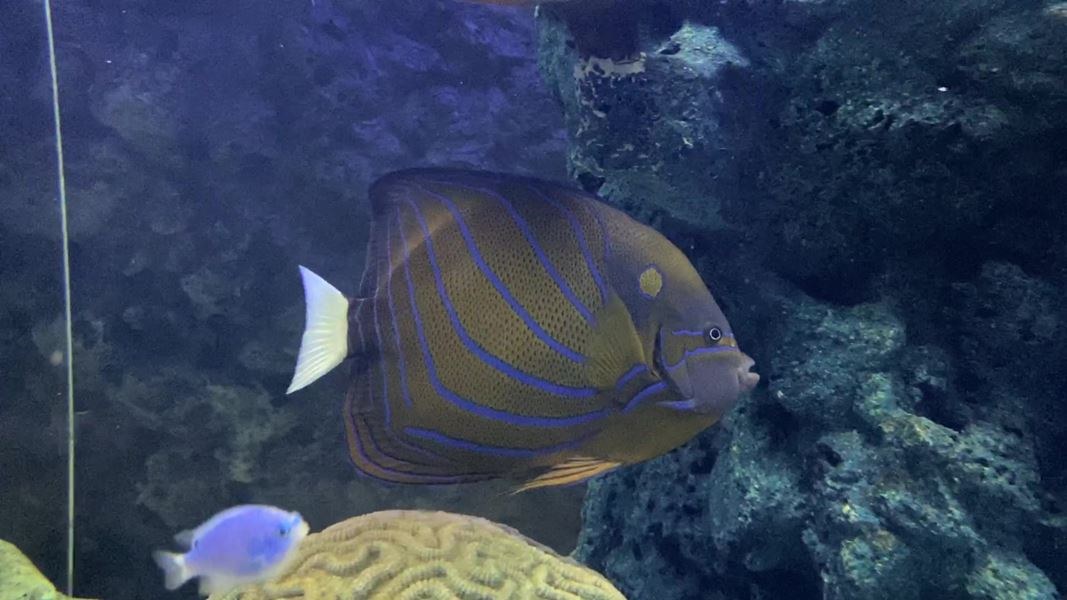Blue ring angelfish: (280, 160, 797, 514)
